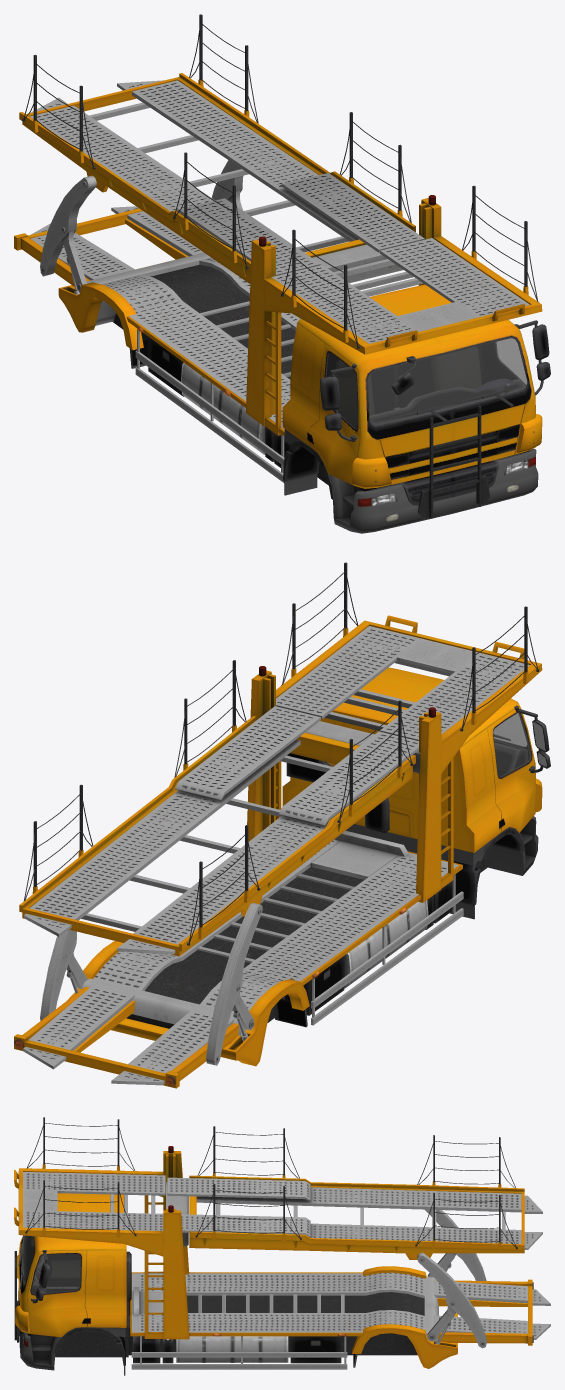
File: Car Carrier Truck.fbx
3 views of the same model, one above another, from view 1: azimuth 30°, elevation 25°; view 2: azimuth 150°, elevation 25°; view 3: azimuth 270°, elevation 25° (orthographic). The views are drawn at different scales.
Visible parts, largest first — view 1: Body Car Carrier Truck, Glass Car Carrier Truck; view 2: Body Car Carrier Truck, Glass Car Carrier Truck; view 3: Body Car Carrier Truck, Glass Car Carrier Truck.
Boxes of the visible parts, box(x1,y1,x2,y2) form: Body Car Carrier Truck: box(14, 14, 550, 533); Glass Car Carrier Truck: box(325, 338, 527, 429); Body Car Carrier Truck: box(14, 562, 550, 1088); Glass Car Carrier Truck: box(493, 713, 530, 776); Body Car Carrier Truck: box(14, 1117, 550, 1375); Glass Car Carrier Truck: box(22, 1235, 80, 1294).
Bounding box in the file's own units: 442 × 502 × 1264.
Materials: 2 (1 with a texture image).
